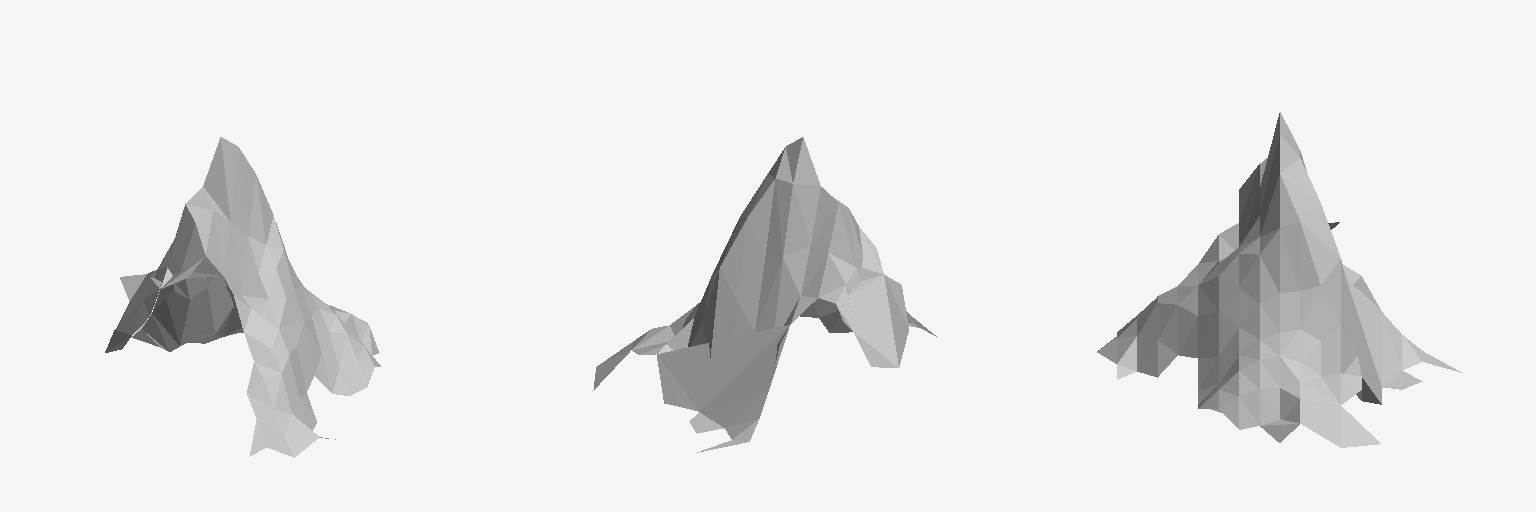
File: tree_62.obj
The picture shows the model from 3 angles: view 1: azimuth 30°, elevation 25°; view 2: azimuth 150°, elevation 25°; view 3: azimuth 270°, elevation 25°; orthographic projection.
Visible parts, largest first — view 1: tree_62.001; view 2: tree_62.001; view 3: tree_62.001.
Part boxes in pixels (x1,y1,x2,y2): tree_62.001: (105, 137, 380, 457); tree_62.001: (593, 137, 936, 452); tree_62.001: (1097, 112, 1461, 447).
Size of the model in its own units: 16 by 13.84 by 18.